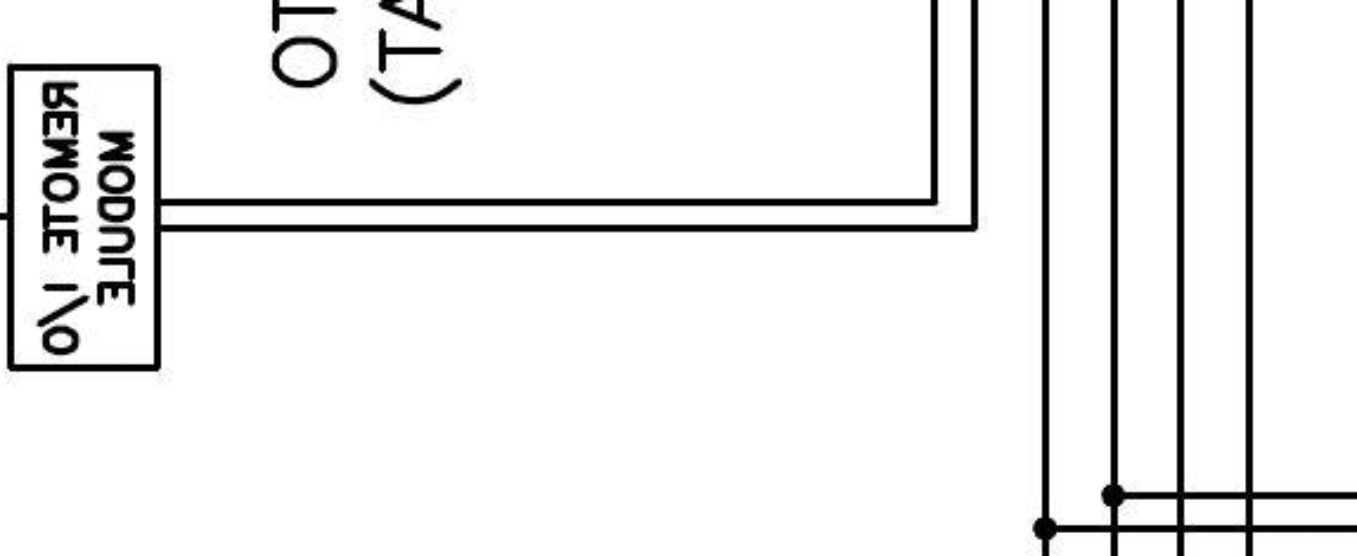remote_io_module: (6, 62, 162, 372)
